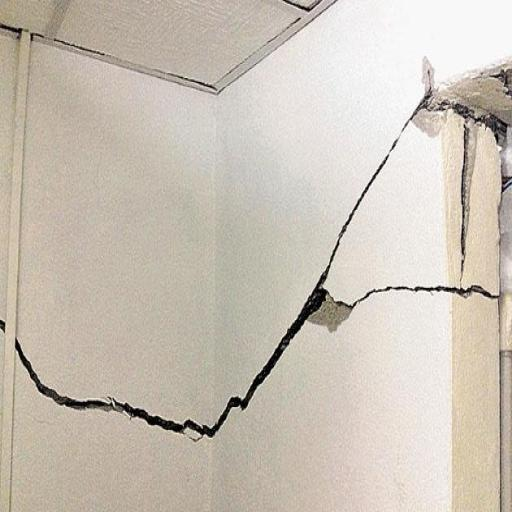spalling: (16, 91, 423, 448), (351, 281, 496, 318), (456, 123, 480, 289)
